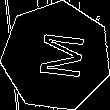M_W: (29, 30, 84, 82)
